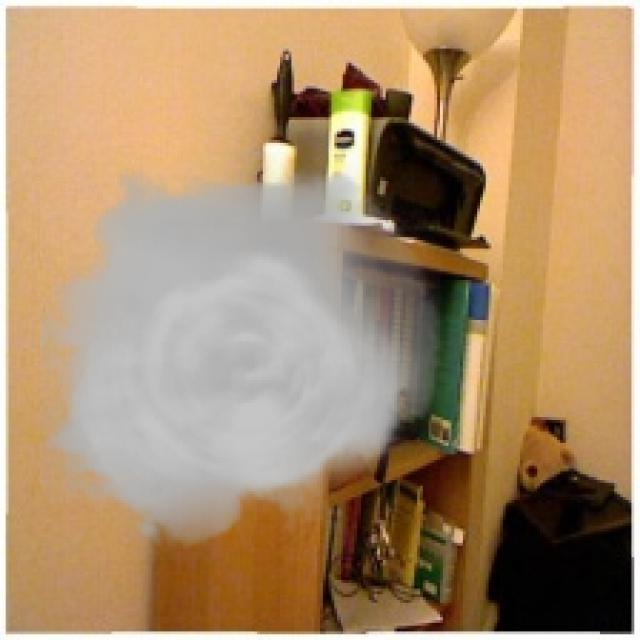smoke: (40, 151, 443, 560)
